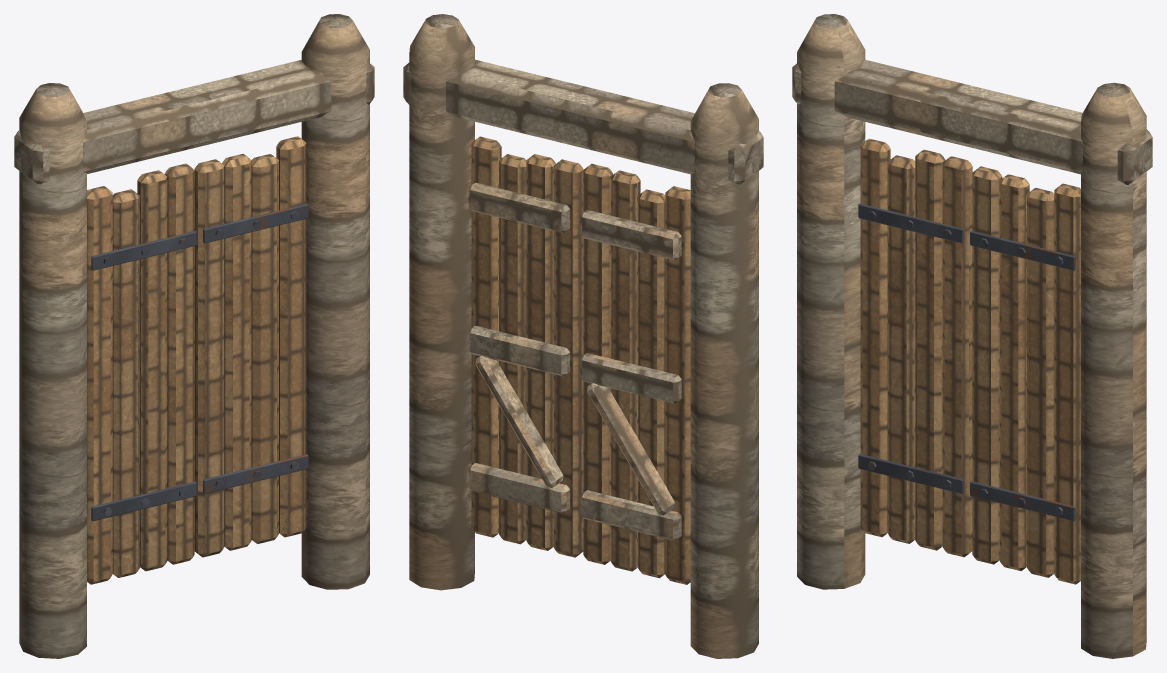
The model's file is sur_kapisi.glb.
3 views of the same model, side by side, from view 1: azimuth 30°, elevation 25°; view 2: azimuth 150°, elevation 25°; view 3: azimuth 330°, elevation 25° (orthographic).
Visible parts, largest first — view 1: sur_kapisi, KanatSag, KanatSol; view 2: sur_kapisi, KanatSag, KanatSol; view 3: sur_kapisi, KanatSol, KanatSag.
Boxes of the visible parts, bbox=[...] form: sur_kapisi: bbox=[14, 14, 374, 658]; KanatSag: bbox=[194, 136, 308, 557]; KanatSol: bbox=[87, 163, 196, 584]; sur_kapisi: bbox=[403, 14, 763, 658]; KanatSag: bbox=[468, 136, 583, 557]; KanatSol: bbox=[580, 163, 690, 584]; sur_kapisi: bbox=[792, 14, 1152, 658]; KanatSol: bbox=[858, 138, 972, 557]; KanatSag: bbox=[970, 166, 1080, 584].
Size of the model in its own units: 3 by 4.65 by 0.515.
1 material, 1 textured.
